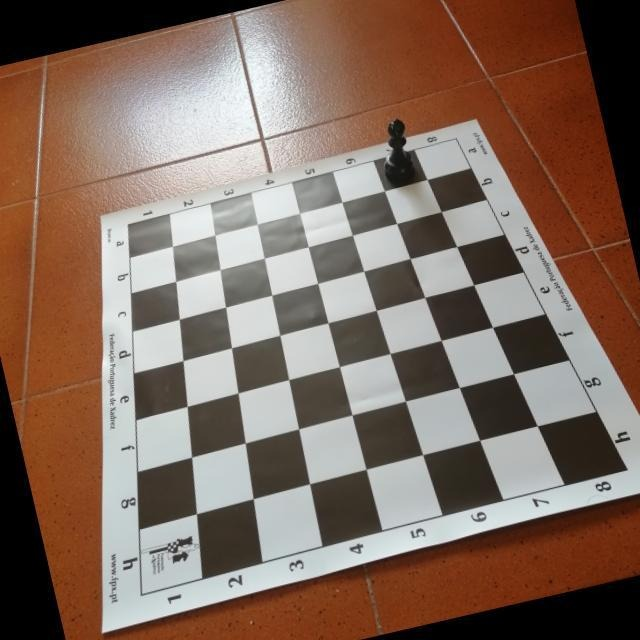black-bishop: (372, 116, 416, 184)
